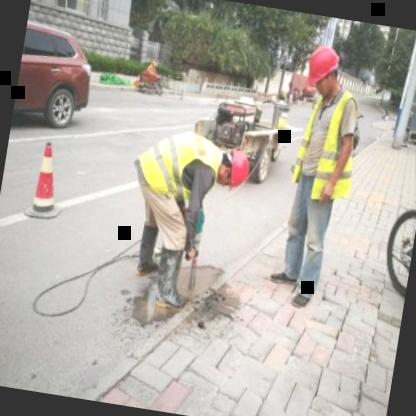helmet: (298, 38, 346, 103), (212, 146, 256, 190)
